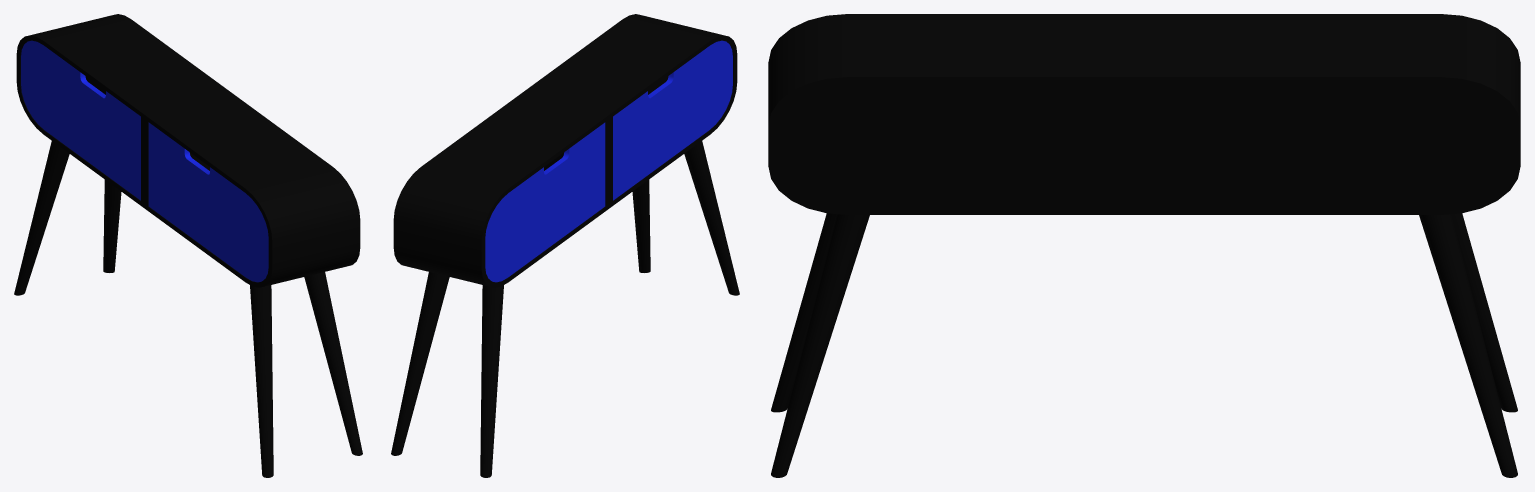
File: entrance_table.fbx
3 views of the same model, side by side, from view 1: azimuth 30°, elevation 25°; view 2: azimuth 150°, elevation 25°; view 3: azimuth 270°, elevation 25° (orthographic). The views are drawn at different scales.
Visible parts, largest first — view 1: entrance_table, drawer_R, drawer_L; view 2: entrance_table, drawer_L, drawer_R; view 3: entrance_table.
Boxes of the visible parts, <box> form: entrance_table: <box>14,14,362,477</box>; drawer_R: <box>148,122,268,282</box>; drawer_L: <box>21,40,140,200</box>; entrance_table: <box>391,14,739,477</box>; drawer_L: <box>485,122,605,282</box>; drawer_R: <box>613,40,732,200</box>; entrance_table: <box>768,14,1520,477</box>.
Size of the model in its own units: 0.3411 by 0.886 by 1.52.
